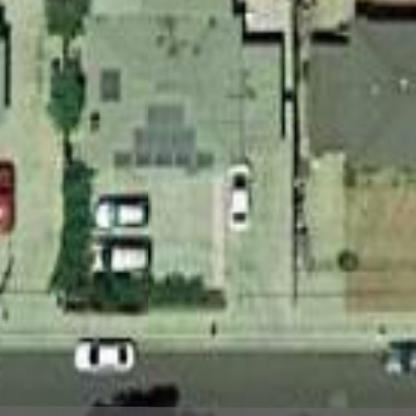car: (78, 237, 162, 279), (73, 332, 143, 373), (226, 157, 256, 240), (96, 189, 156, 230), (1, 156, 23, 238)
